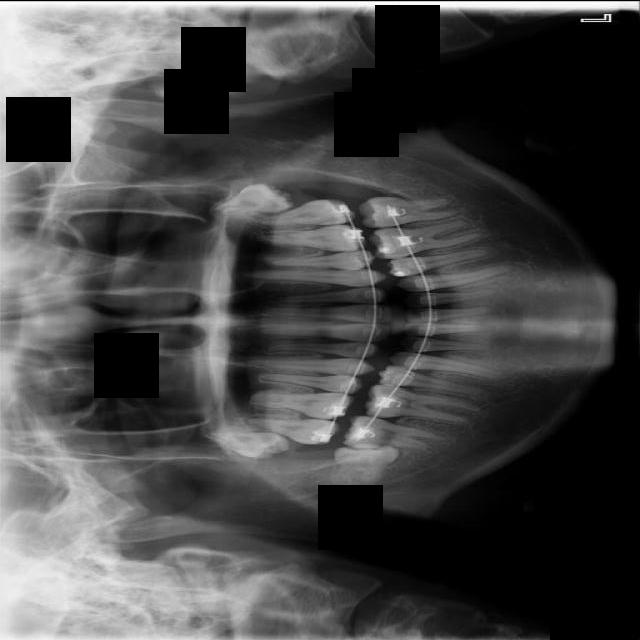3M ESPE Implant: (202, 423, 292, 462)
52: (291, 417, 342, 446), (378, 441, 395, 446)
73: (587, 21, 598, 26)
BioHorizons Implant: (249, 198, 355, 225)
BioLife Implant: (214, 182, 295, 213)
Biomet 3i Implant: (359, 195, 460, 227)
Blue Sky Bio Implant: (368, 217, 482, 261)
Caries: (245, 415, 341, 445)
Implant: (341, 413, 447, 457)
Keystone Dental Implant: (331, 442, 401, 484)
